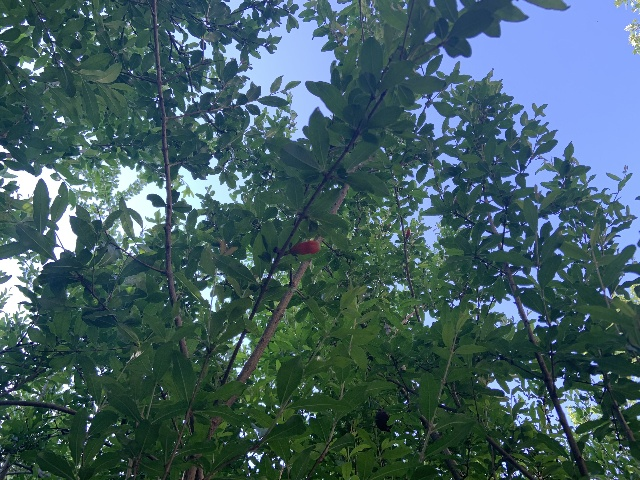bud: (291, 240, 320, 254)
